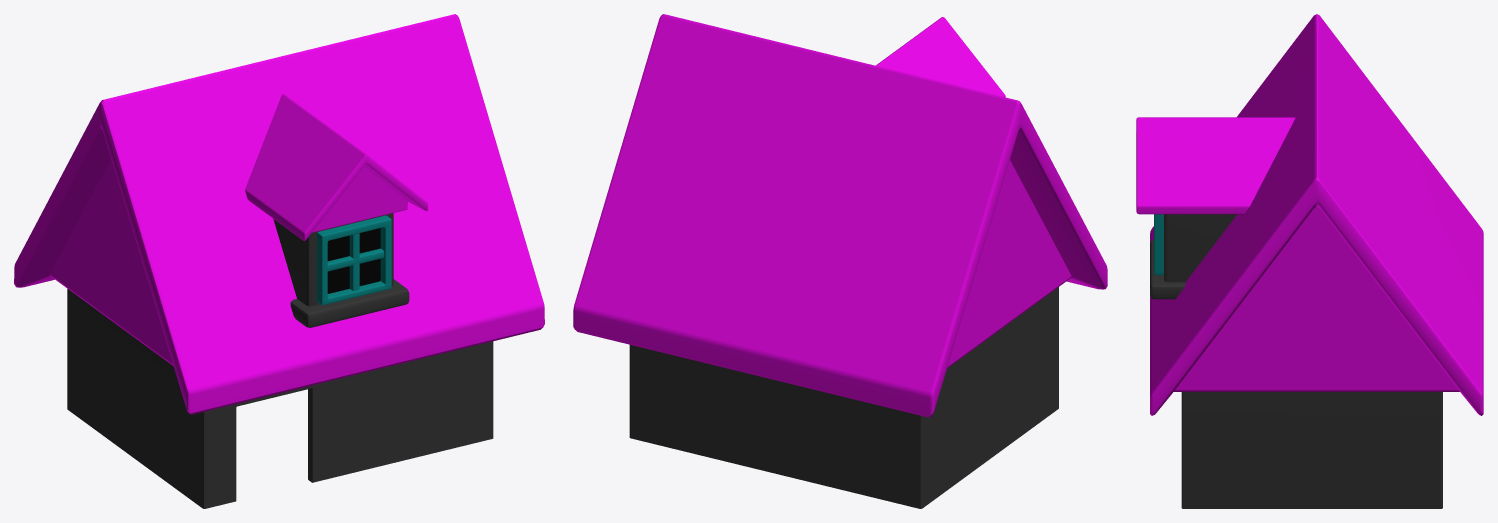
Rendered from SM_Cabane_01.fbx.
3 views of the same model, side by side, from view 1: azimuth 30°, elevation 25°; view 2: azimuth 150°, elevation 25°; view 3: azimuth 270°, elevation 25° (orthographic). The views are drawn at different scales.
Visible parts, largest first — view 1: SM_Cabane_01; view 2: SM_Cabane_01; view 3: SM_Cabane_01.
Part boxes in pixels (left/top/right/bottom): SM_Cabane_01: left=14, top=14, right=544, bottom=508; SM_Cabane_01: left=573, top=14, right=1107, bottom=508; SM_Cabane_01: left=1136, top=14, right=1483, bottom=508.
Size of the model in its own units: 397 by 386 by 351.
